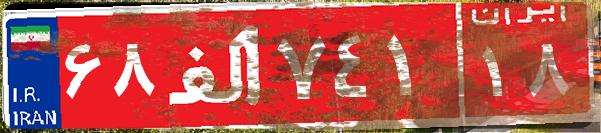1: (385, 28, 445, 110), (475, 38, 525, 113)
4: (330, 28, 385, 110)
6: (57, 26, 110, 107)
7: (273, 28, 330, 110)
8: (110, 28, 158, 105), (525, 38, 570, 115)
الف: (158, 15, 273, 115)
